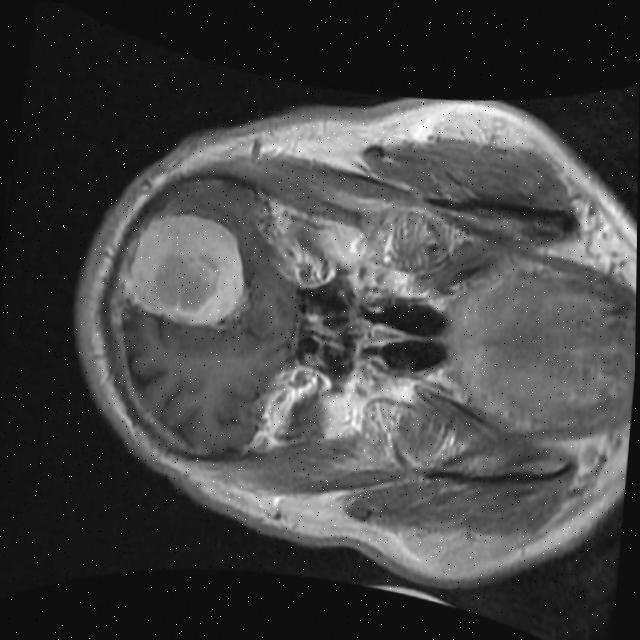Meningioma: (120, 201, 258, 336)
